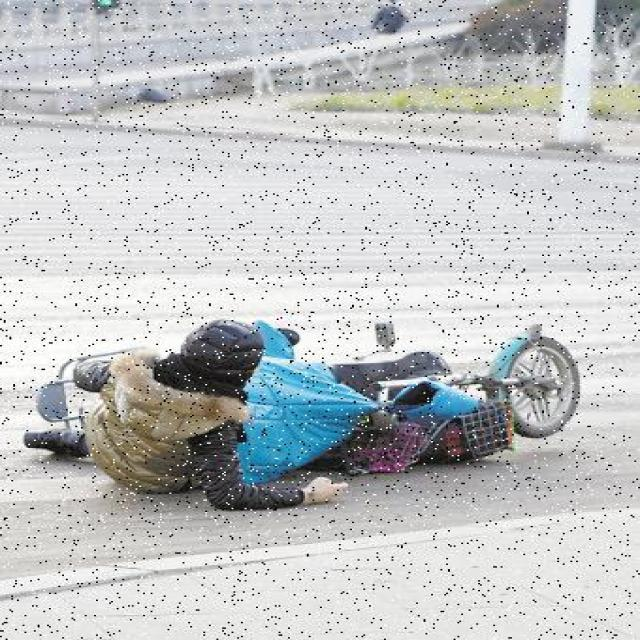fall: (62, 330, 330, 515)
